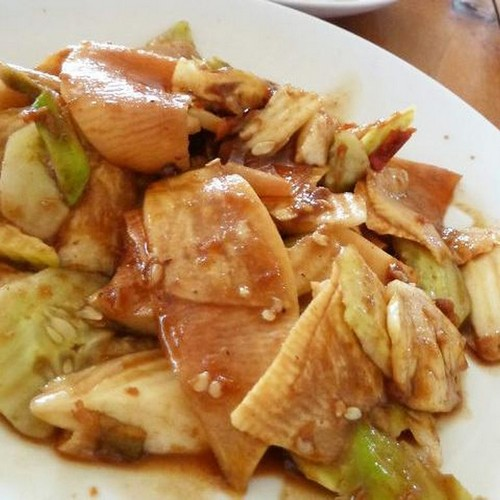rujak buleleng: (11, 27, 426, 480)
